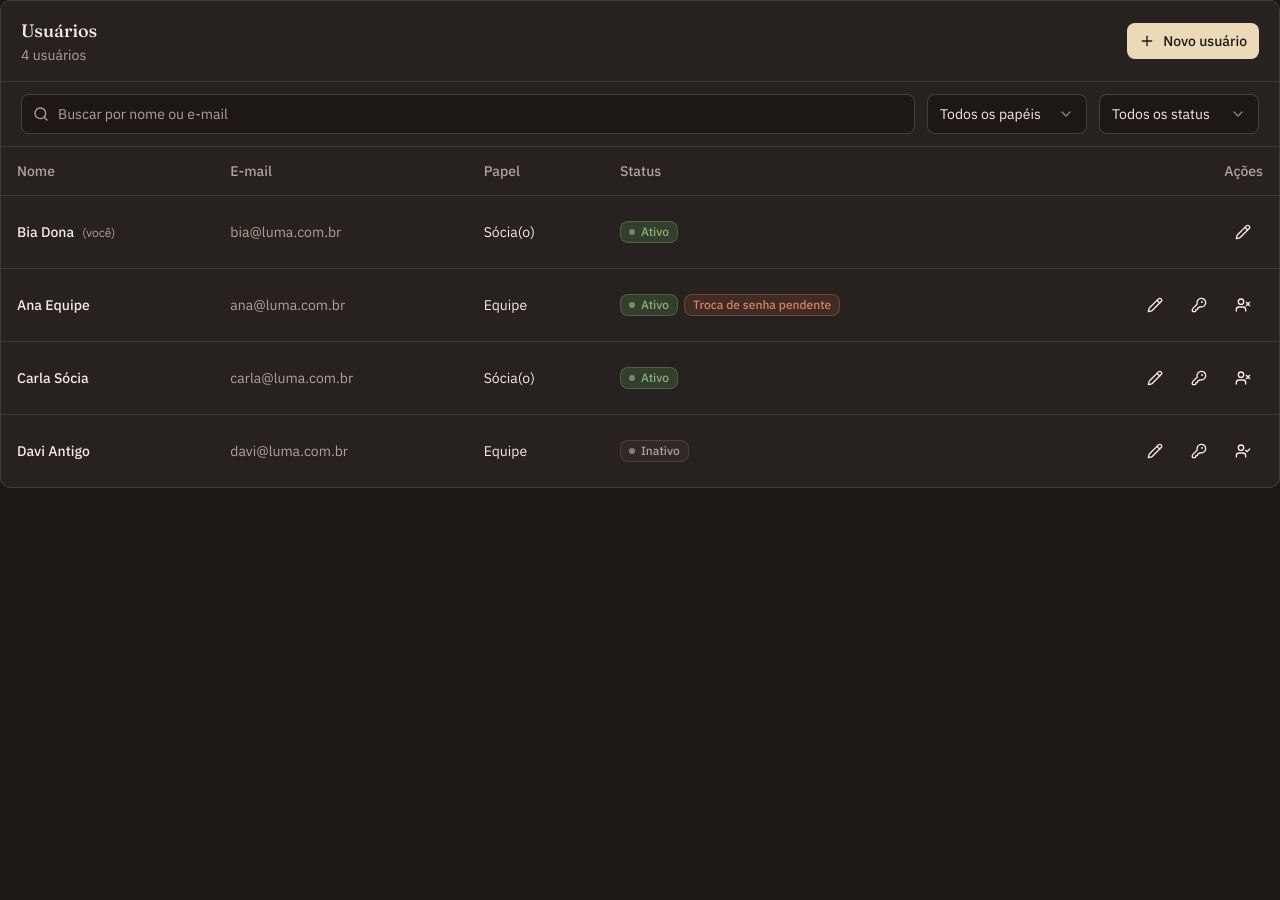
Test case: users tab › explains the last-owner rule when the backend refuses a deactivation
This screenshot has width=1280, height=900.
Check: the text "Carla Sócia" is shown, box [1,341,214,414]
Click the button named "Desativar Carla Sócia".
click(1243, 378)  # box [1223,358,1263,398]
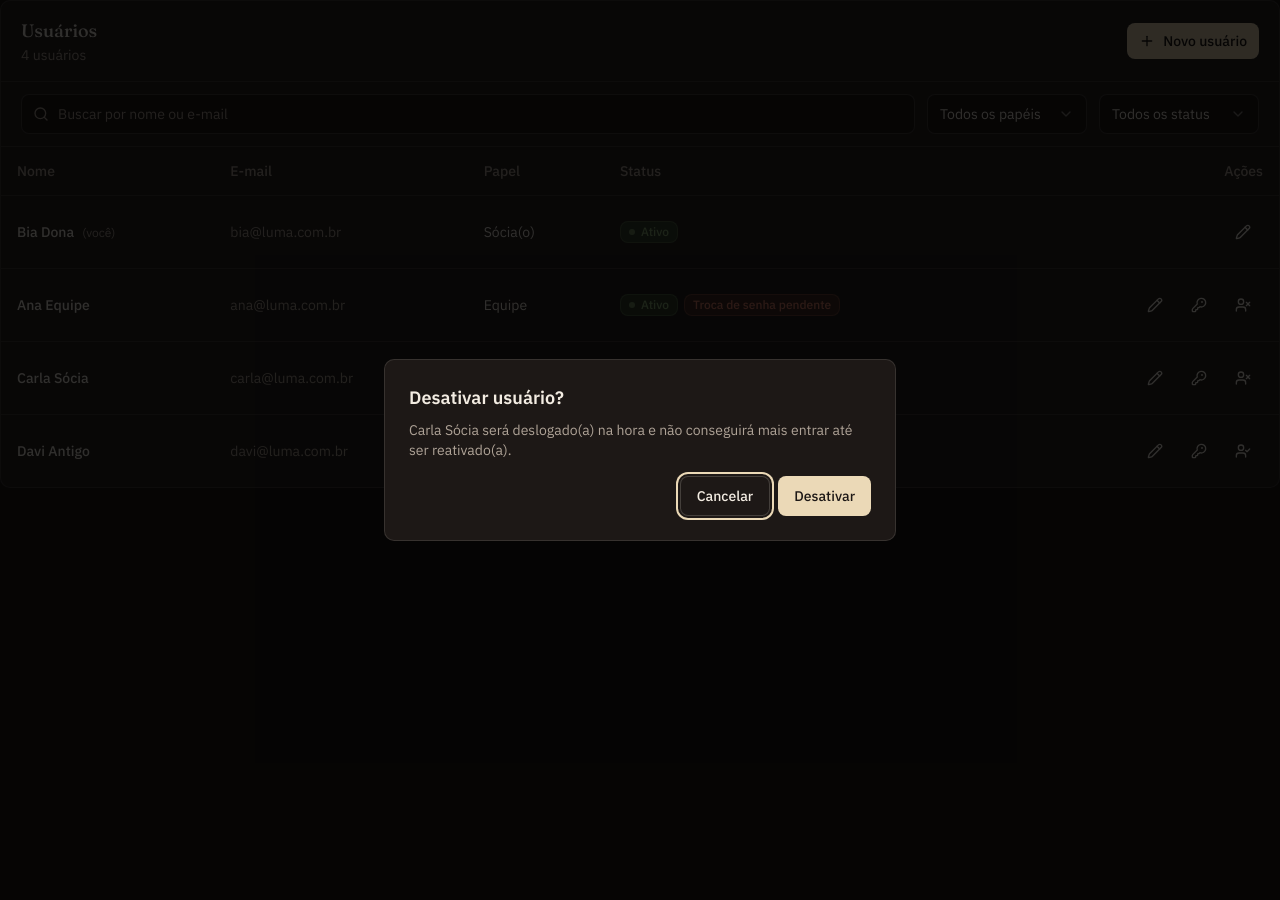
Click the button "Desativar".
click(825, 496)  # box [778,476,871,516]
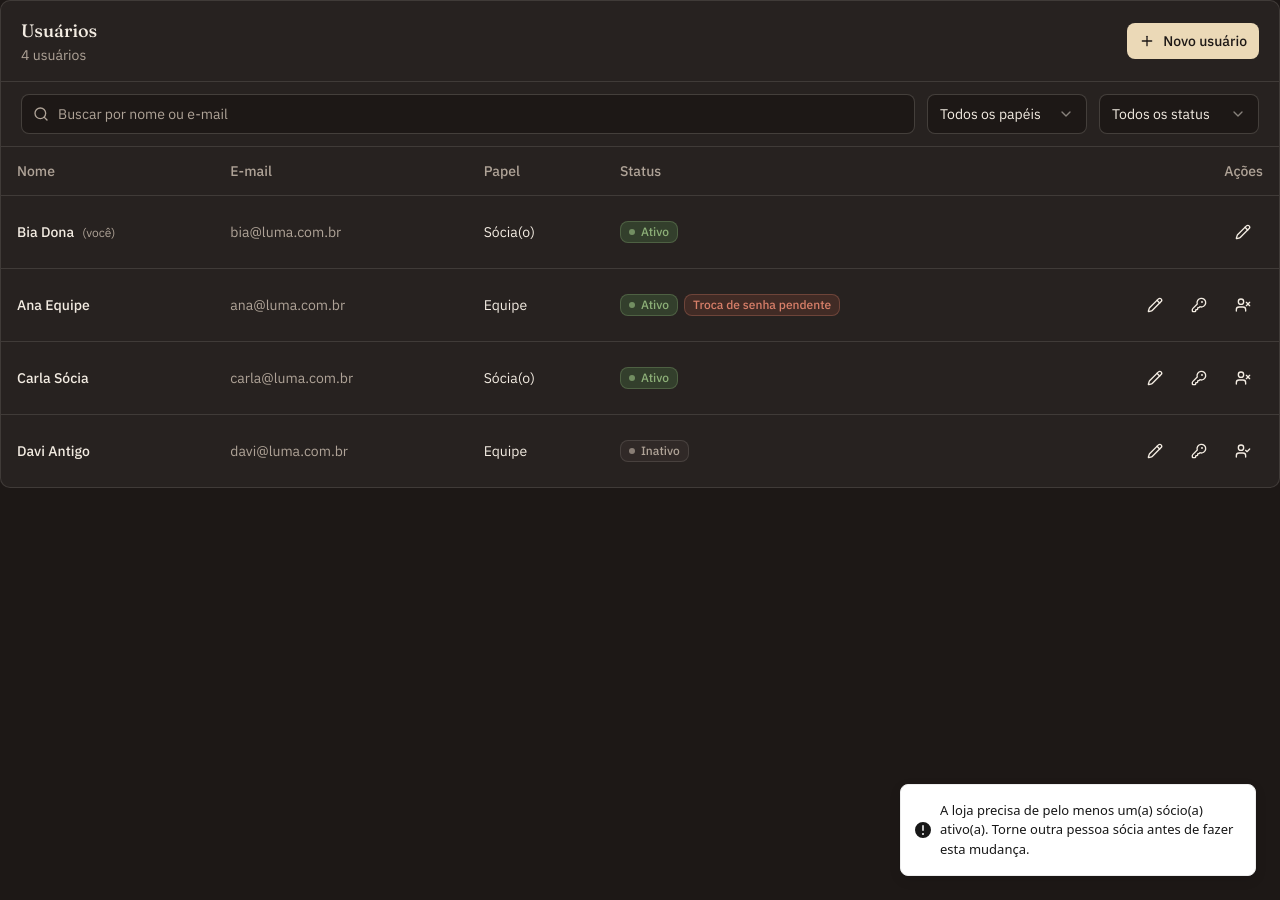
Check: the text "A loja precisa de pelo menos um(a) sócio(a) ativo(a)" is shown, box [940,800,1233,858]
